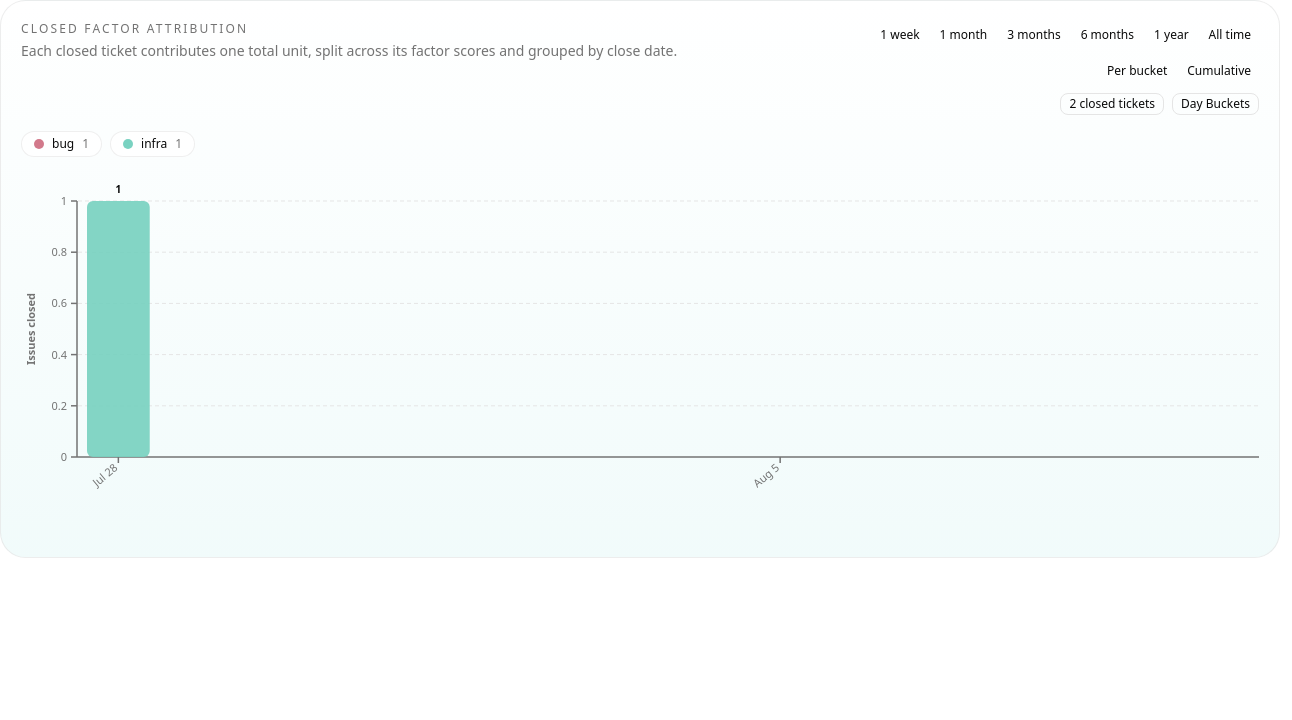
Scenario: ClosedFactorAttributionChart › filters issues when period is changed
Expected: the text "2 closed tickets" is shown, [1060,93,1164,115]
Switch to 1 week — only the recent issue should remain
Click the button "1 week": click(900, 35) [872,21,928,49]
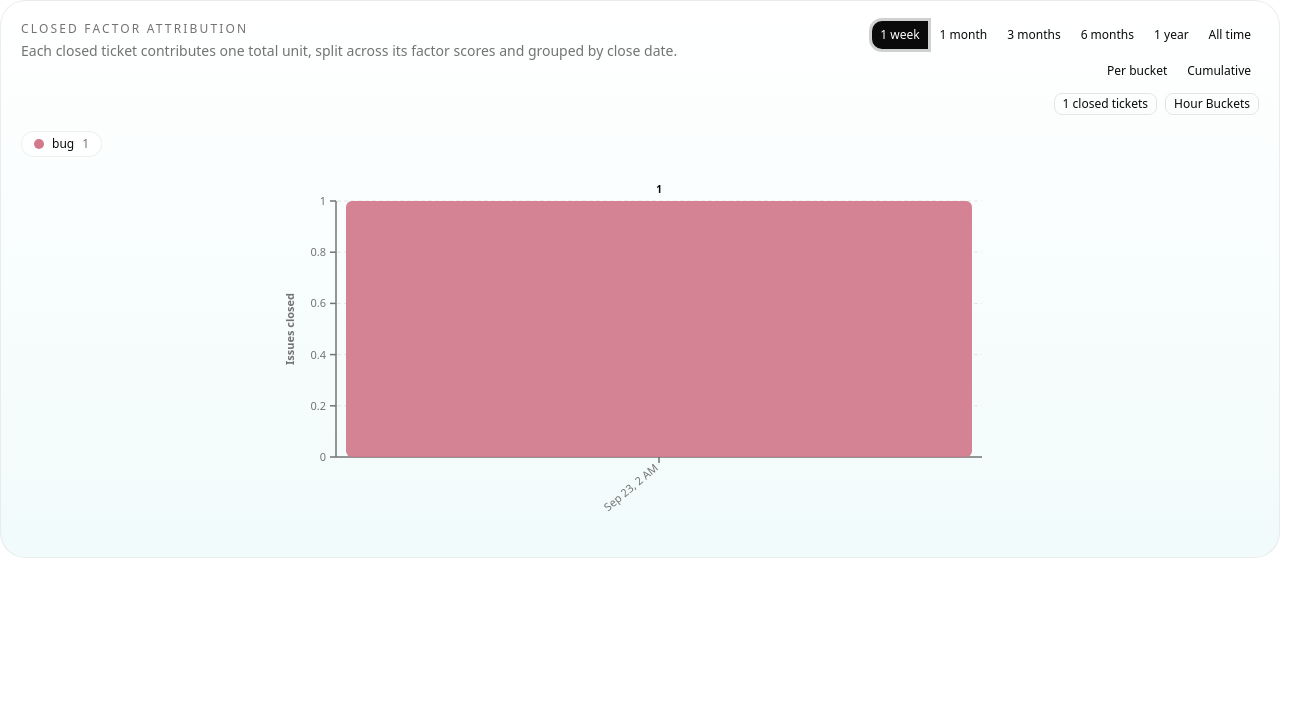
Now the text "1 closed tickets" is shown, box [1054,93,1157,115]
